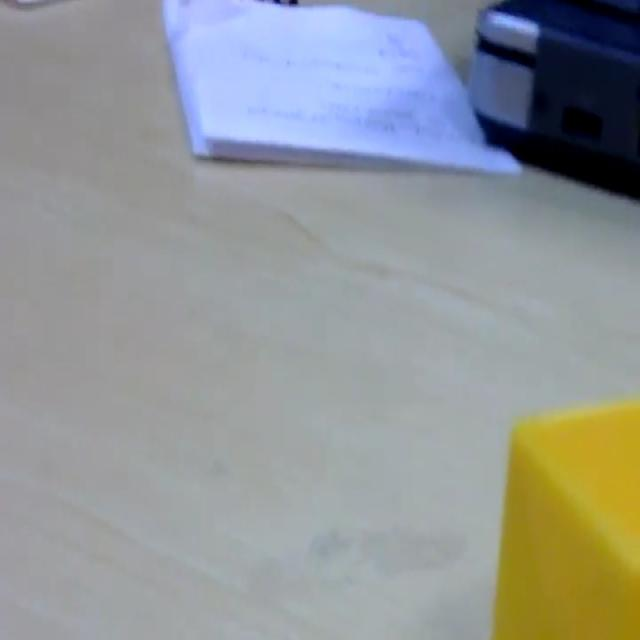yellow_block: (491, 396, 638, 636)
